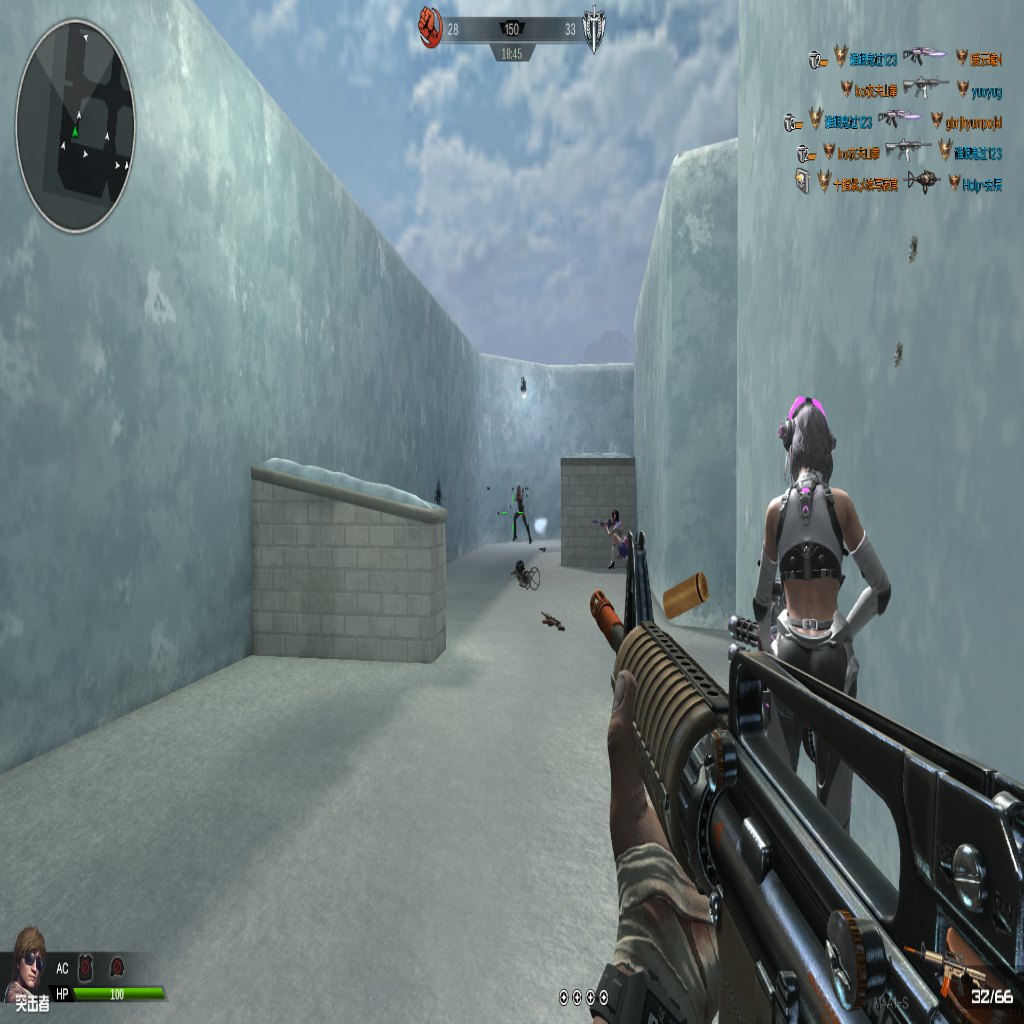ct: (510, 481, 533, 545)
tt: (753, 397, 885, 792), (596, 508, 626, 569)
